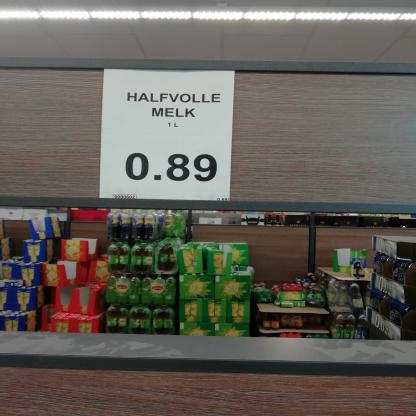prtg: (99, 68, 239, 205)
